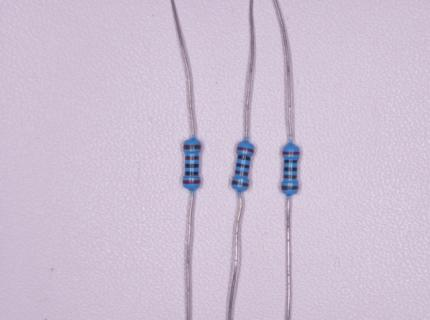Black band: (236, 162, 250, 169), (238, 155, 251, 160), (185, 164, 199, 168), (185, 171, 199, 175), (285, 159, 298, 163), (284, 167, 297, 171)
Brown band: (232, 180, 249, 187), (281, 185, 298, 190), (235, 170, 248, 176), (184, 155, 199, 160), (184, 145, 201, 149), (284, 174, 297, 179)
Red band: (237, 146, 254, 153), (183, 180, 201, 184), (282, 151, 300, 155)
